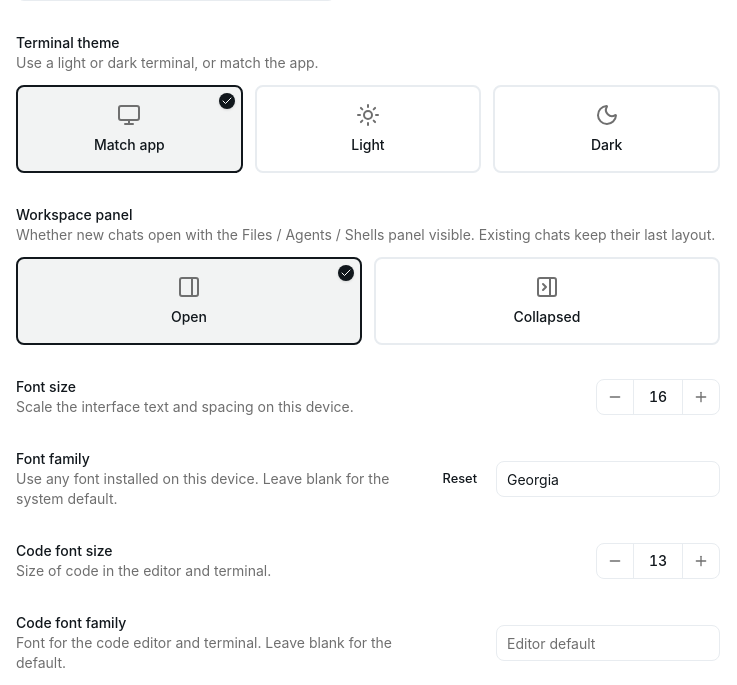
it: SettingsPage › reset restores the system default font family
(page scrolled)
expect the field with test id "ui-font-family-input" holds "Georgia": met, box [496, 461, 720, 497]
Click the button with test id "ui-font-family-reset" at [460, 479], box [432, 461, 488, 497]
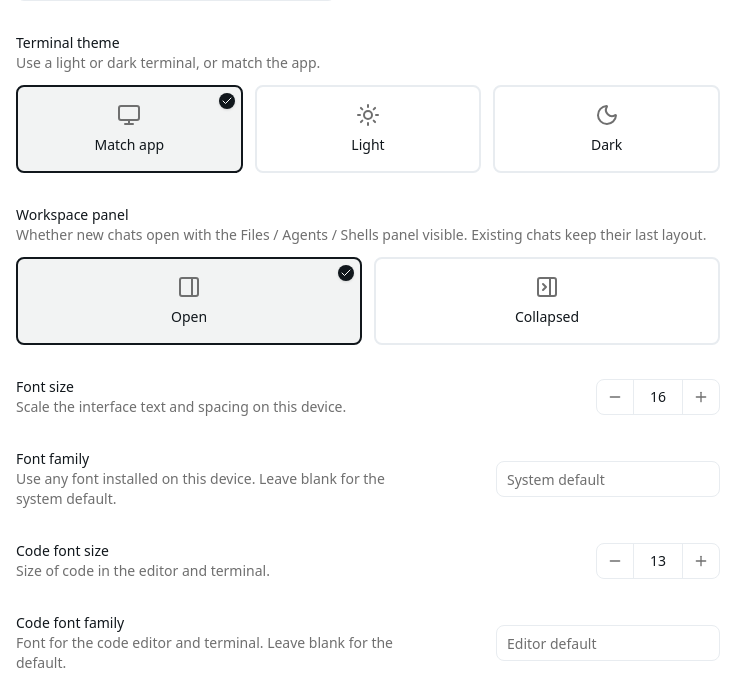
expect the field with test id "ui-font-family-input" is empty: met, box [496, 461, 720, 497]
